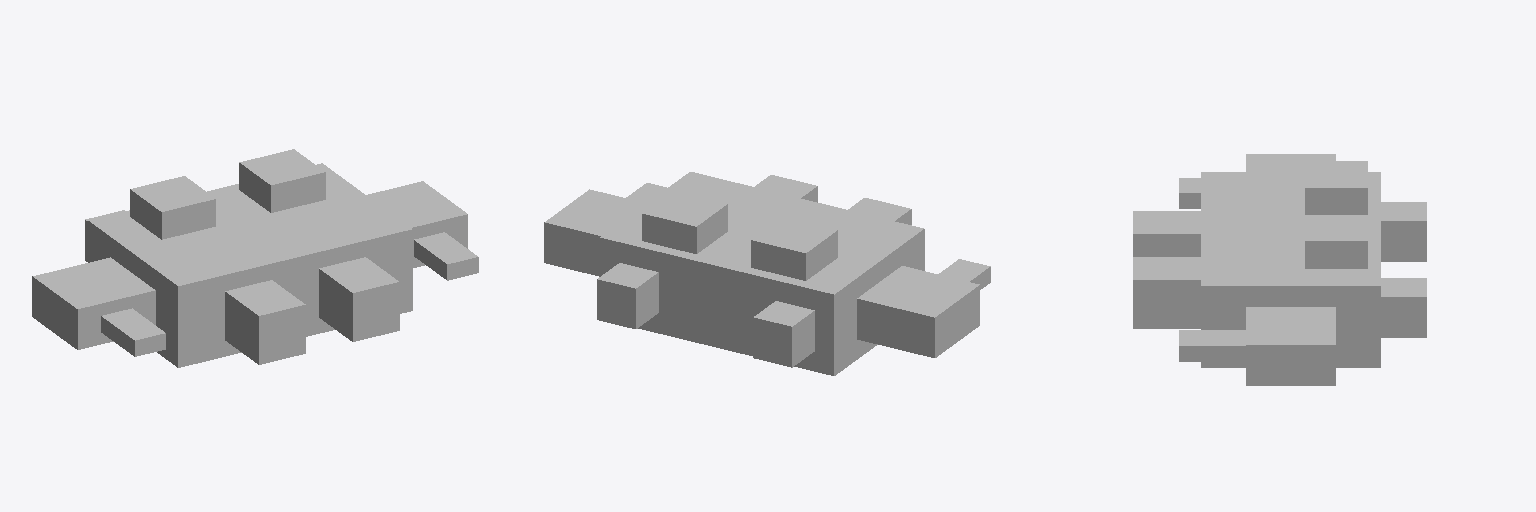
Rendered from Alien2.obj.
The picture shows the model from 3 angles: view 1: azimuth 30°, elevation 25°; view 2: azimuth 150°, elevation 25°; view 3: azimuth 270°, elevation 25°; orthographic projection.
Visible parts, largest first — view 1: Cube; view 2: Cube; view 3: Cube.
Boxes of the visible parts, <box> form: Cube: <box>32,149,478,367</box>; Cube: <box>544,172,990,375</box>; Cube: <box>1133,154,1426,385</box>.
Size of the model in its own units: 113 by 30.26 by 73.48.